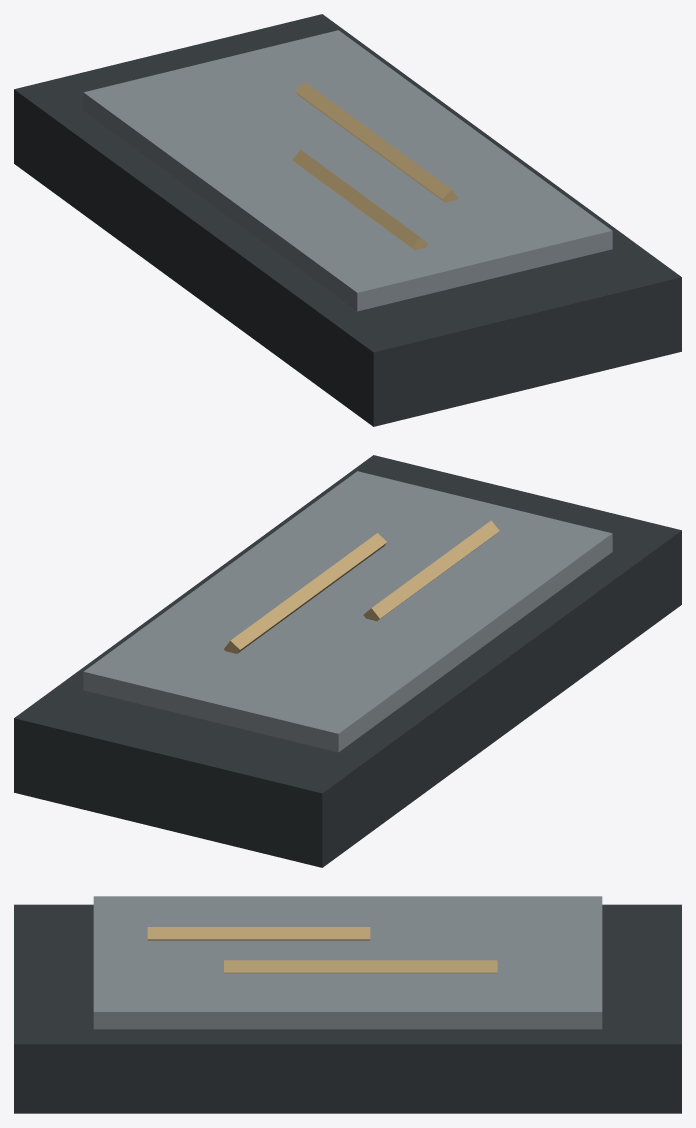
Rendered from cracked_phone.glb.
The picture shows the model from 3 angles, top to bottom: view 1: azimuth 30°, elevation 25°; view 2: azimuth 150°, elevation 25°; view 3: azimuth 270°, elevation 25°; orthographic projection. The views are drawn at different scales.
Visible parts, largest first — view 1: cracked_phone; view 2: cracked_phone; view 3: cracked_phone.
Part boxes in pixels (x1,y1,x2,y2): cracked_phone: (14,14,681,426); cracked_phone: (14,455,681,867); cracked_phone: (14,896,681,1113).
Size of the model in its own units: 0.052 by 0.0174 by 0.105.
